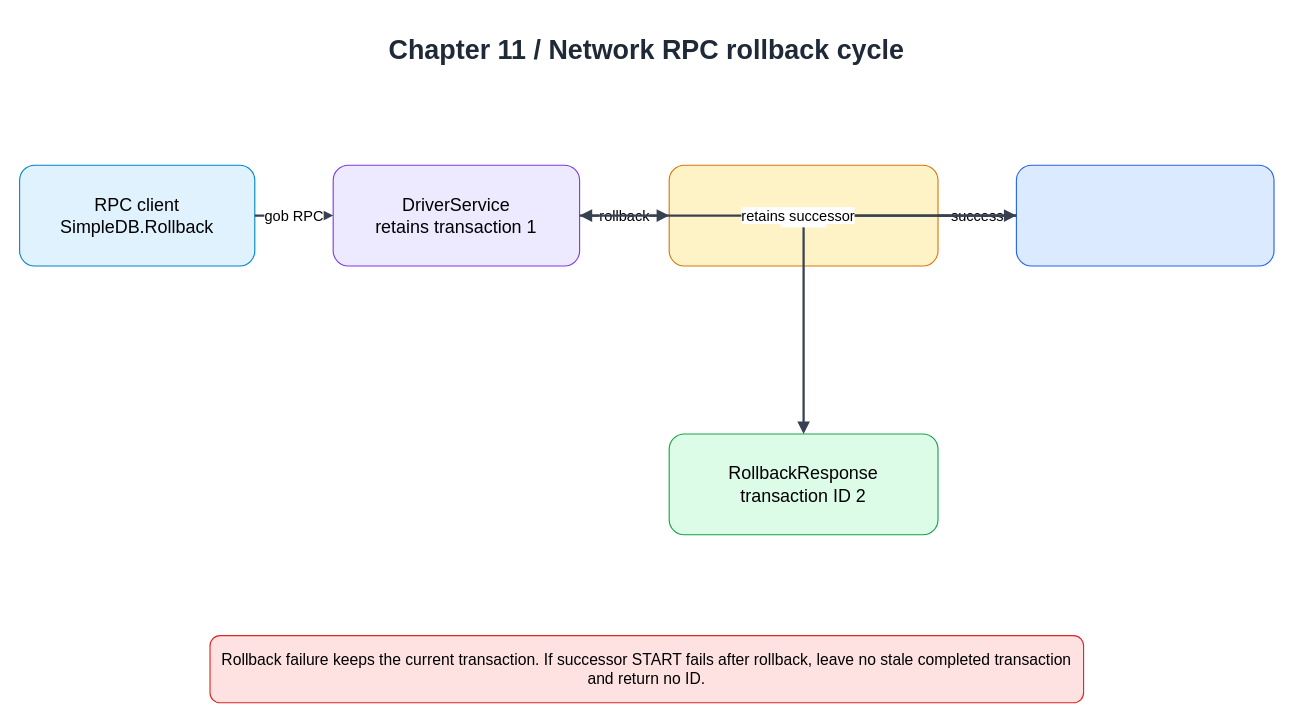
Some shapes in this 1294 by 722 pixel diagram are drawn without their labels. Here are the shapes that lost their labels. From the top down, the centre of each, then its label:
At (x=803, y=215): "Transaction.Rollback durable ROLLBACK record".
At (x=1144, y=215): "Managers.NewTransaction START transaction 2".
